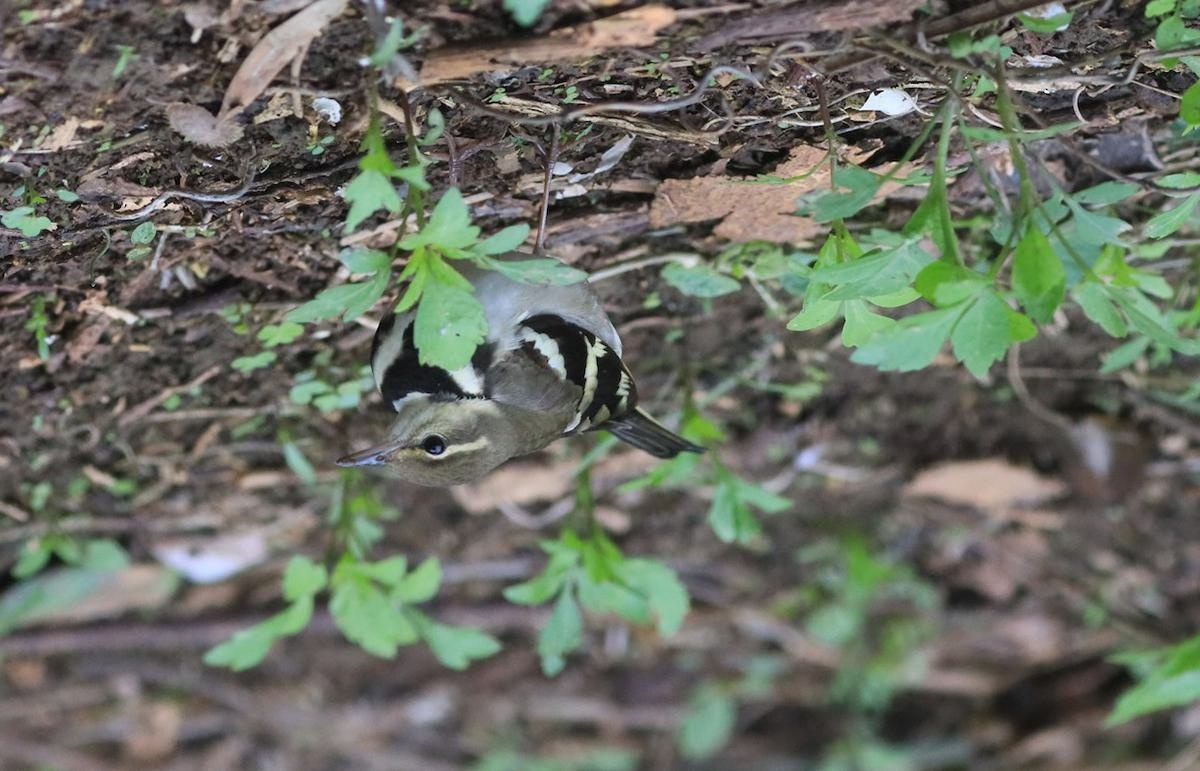wagtail: (334, 231, 664, 495)
